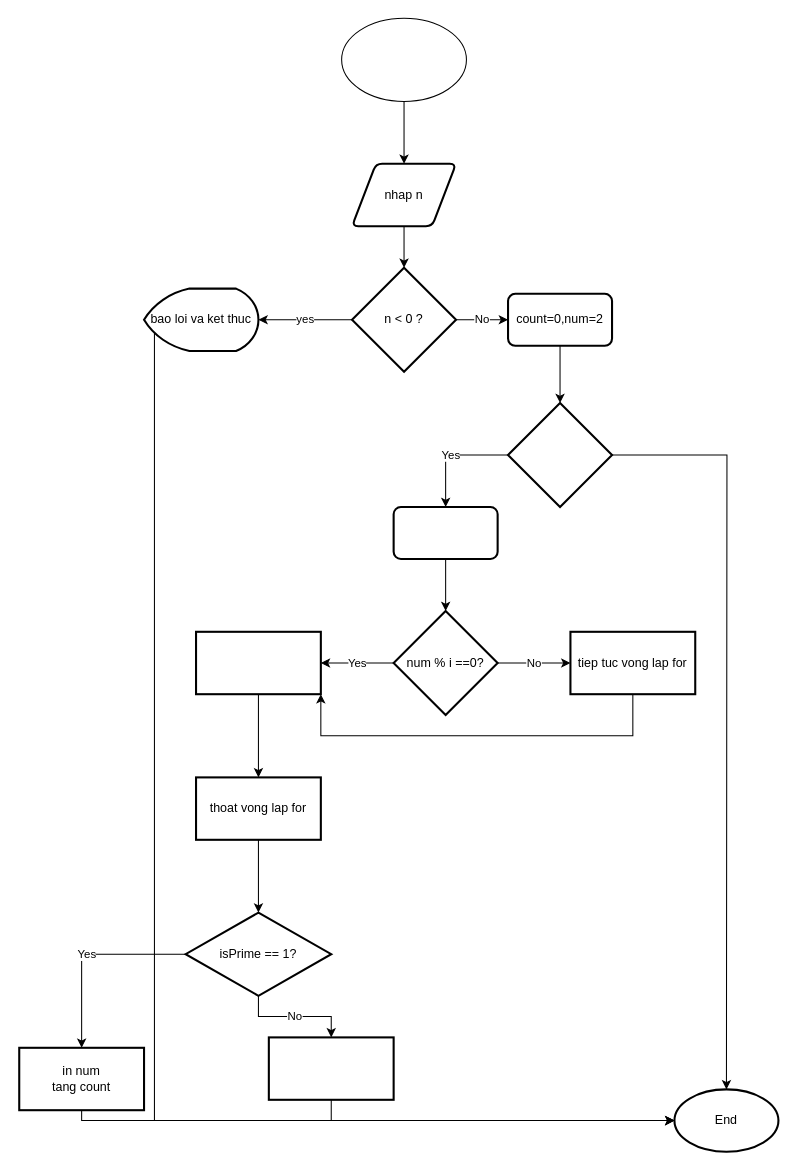
Some shapes in this 797 by 1171 pixel diagram are drawn without their labels. The centre of each missing label's shape, as x and y in pixels:
count < n ?: (x=559, y=454)
isPrime = 0: (x=257, y=662)
isPrime = 1: (x=445, y=532)
Start: (x=403, y=59)
Tang num len 1: (x=330, y=1068)
